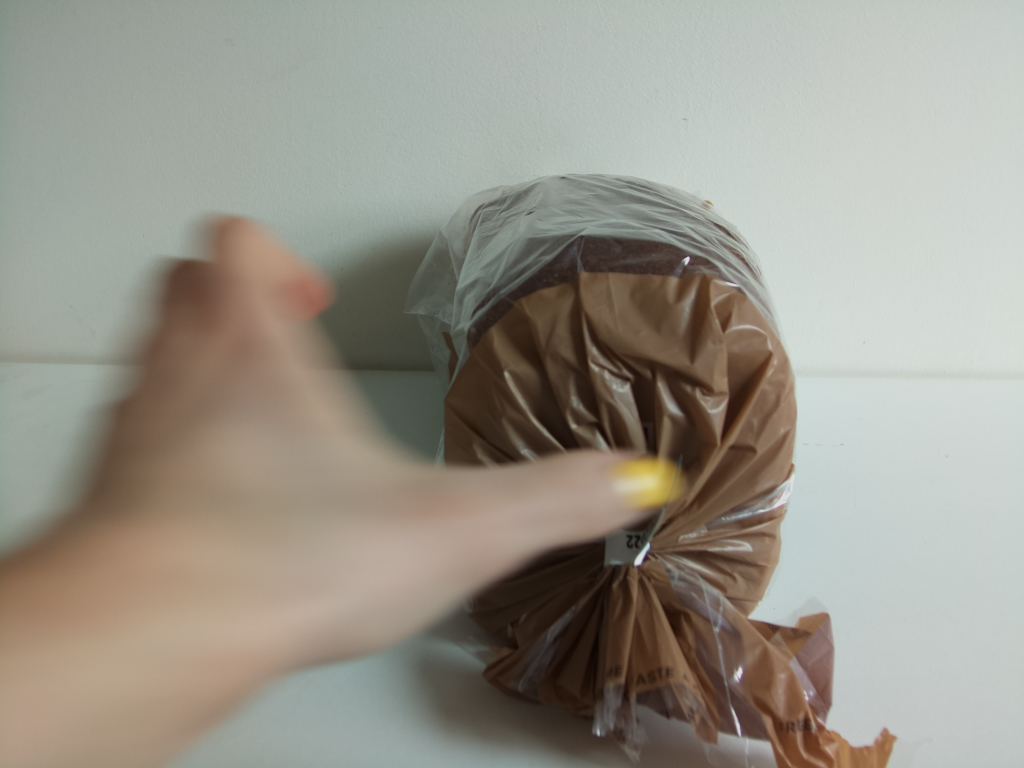bread: (401, 175, 894, 768)
